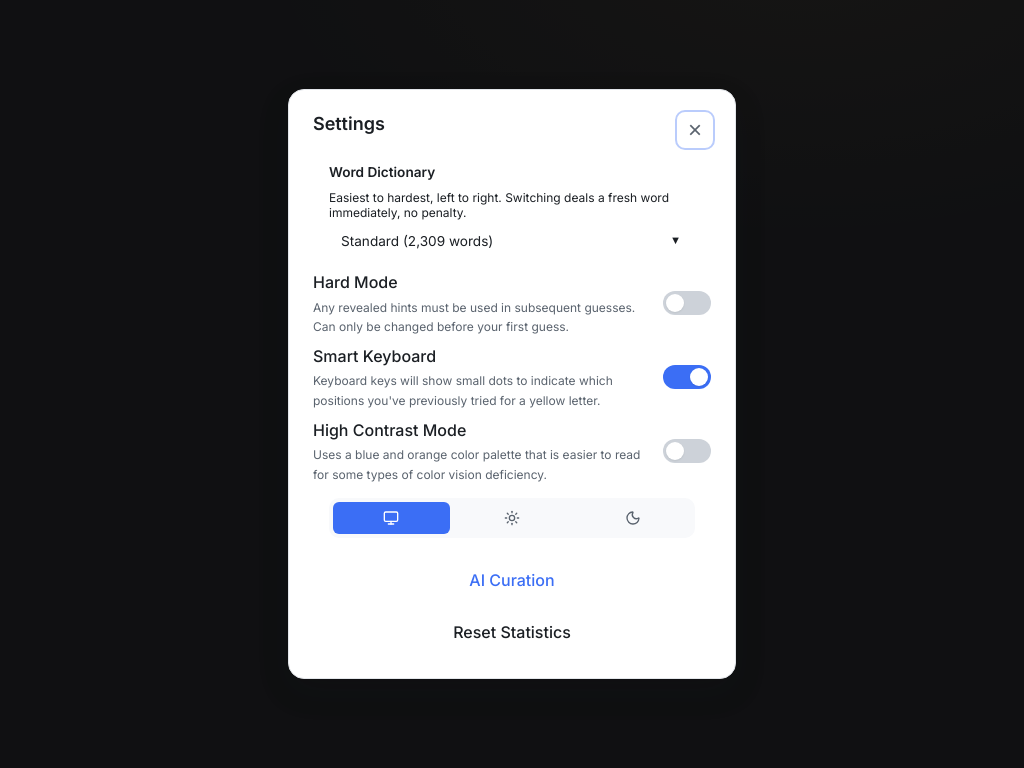
Settings component › errors when nothing in the reply looks like a word list
Click the button "AI Curation". click: {"x": 512, "y": 580}
box: [444,558,580,602]
(page scrolled)
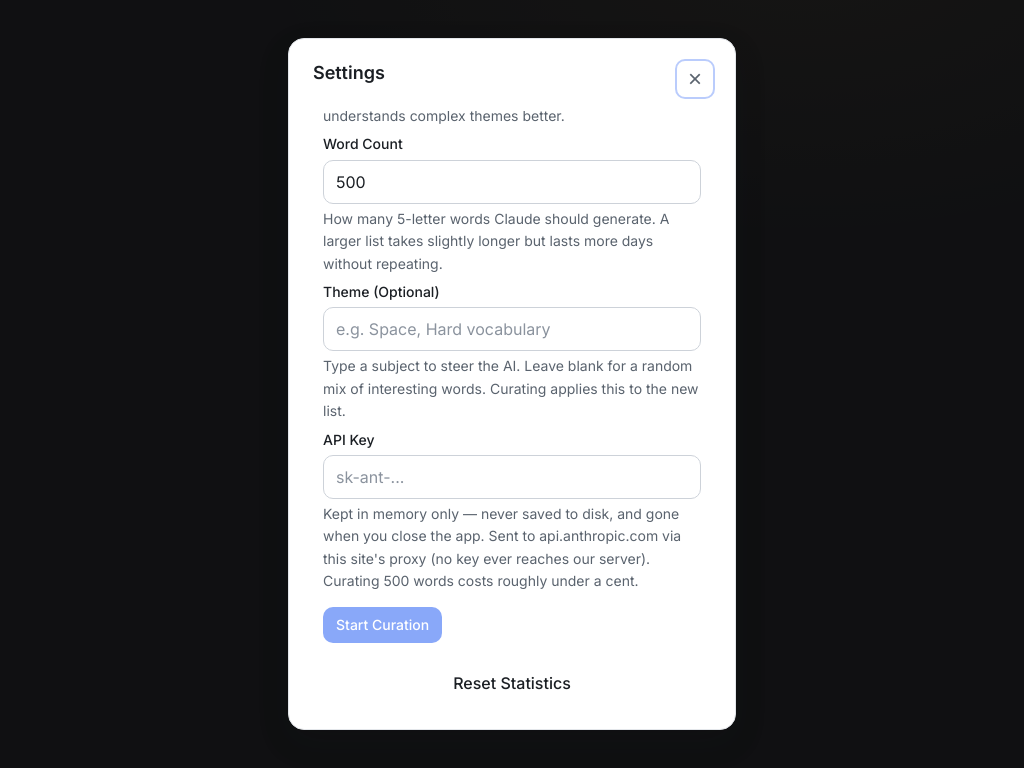
Type "sk-ant-test-key" into the password field with placeholder "sk-ant-...". click: {"x": 512, "y": 477}
box: [323,455,701,499]
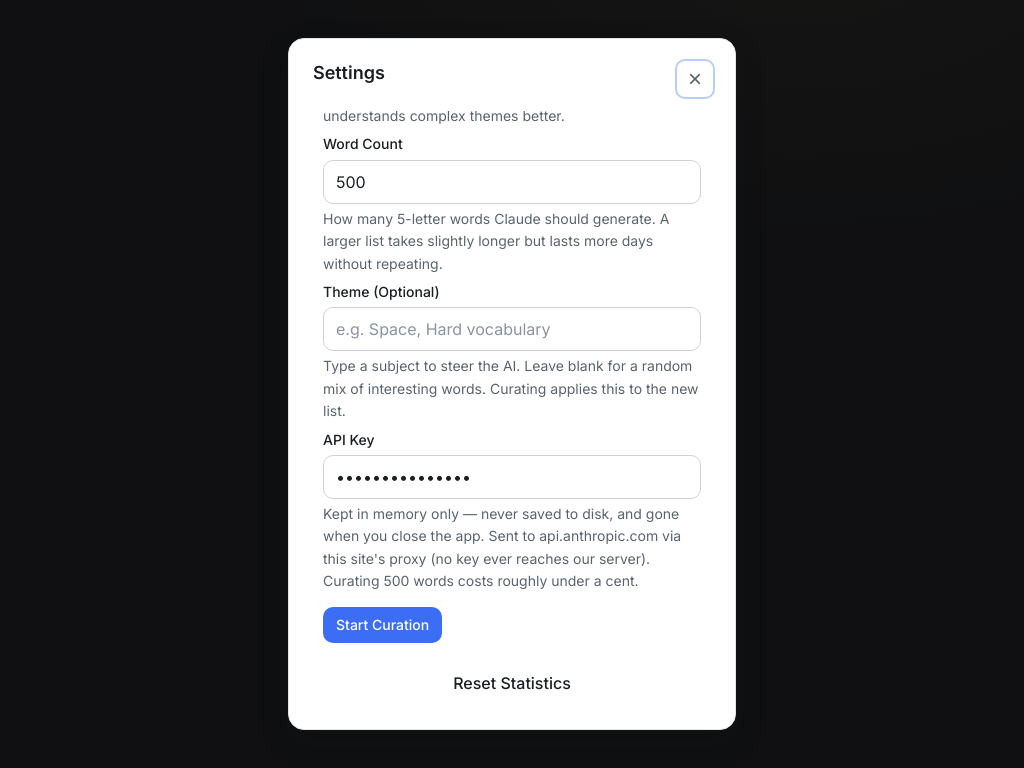
Click the button "Start Curation". click: {"x": 383, "y": 624}
box: [323,606,442,642]
(page scrolled)
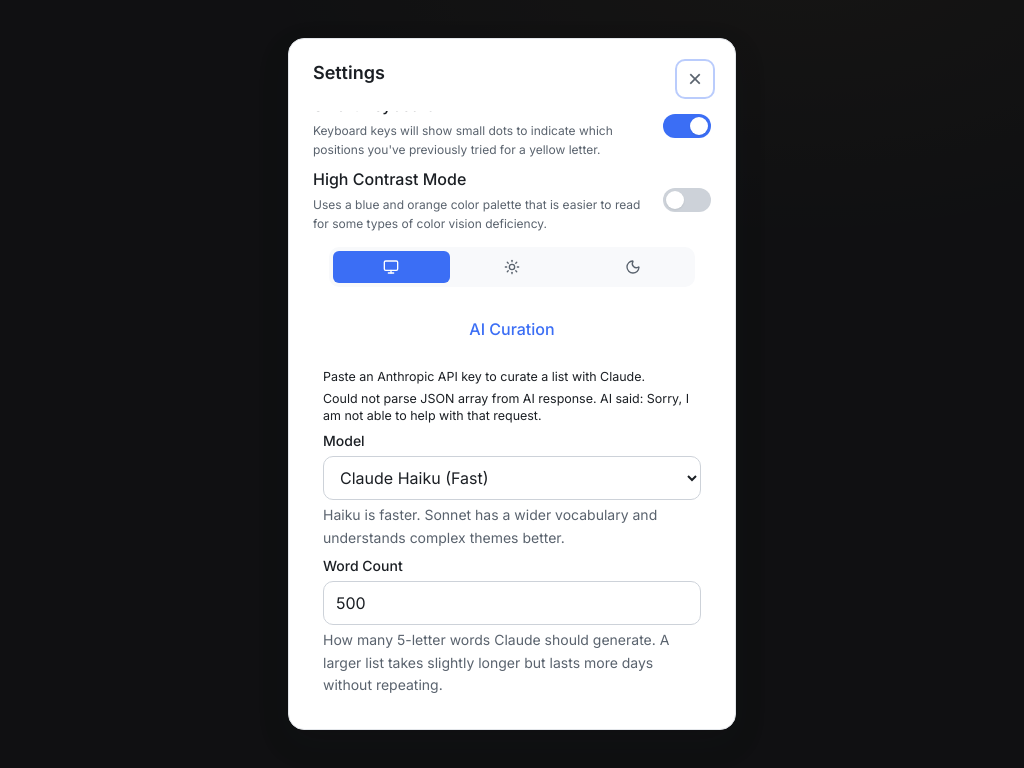
Check: the text "Could not parse JSON array" is shown, box [323,391,689,422]
